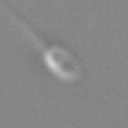normal: (1, 1, 49, 52)
